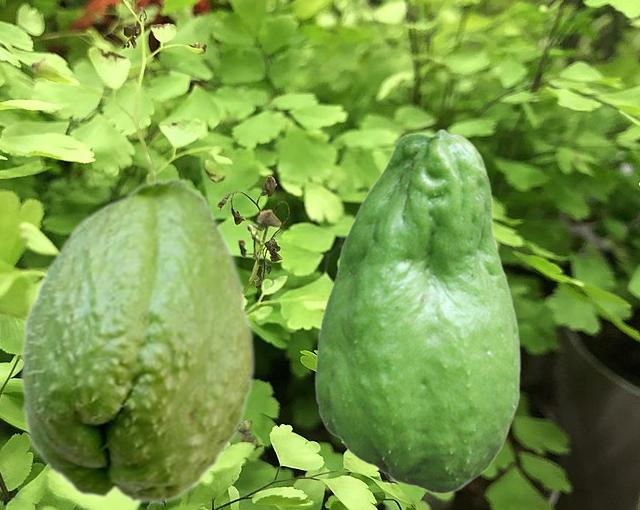sayote: (19, 175, 256, 504), (314, 128, 520, 493)
